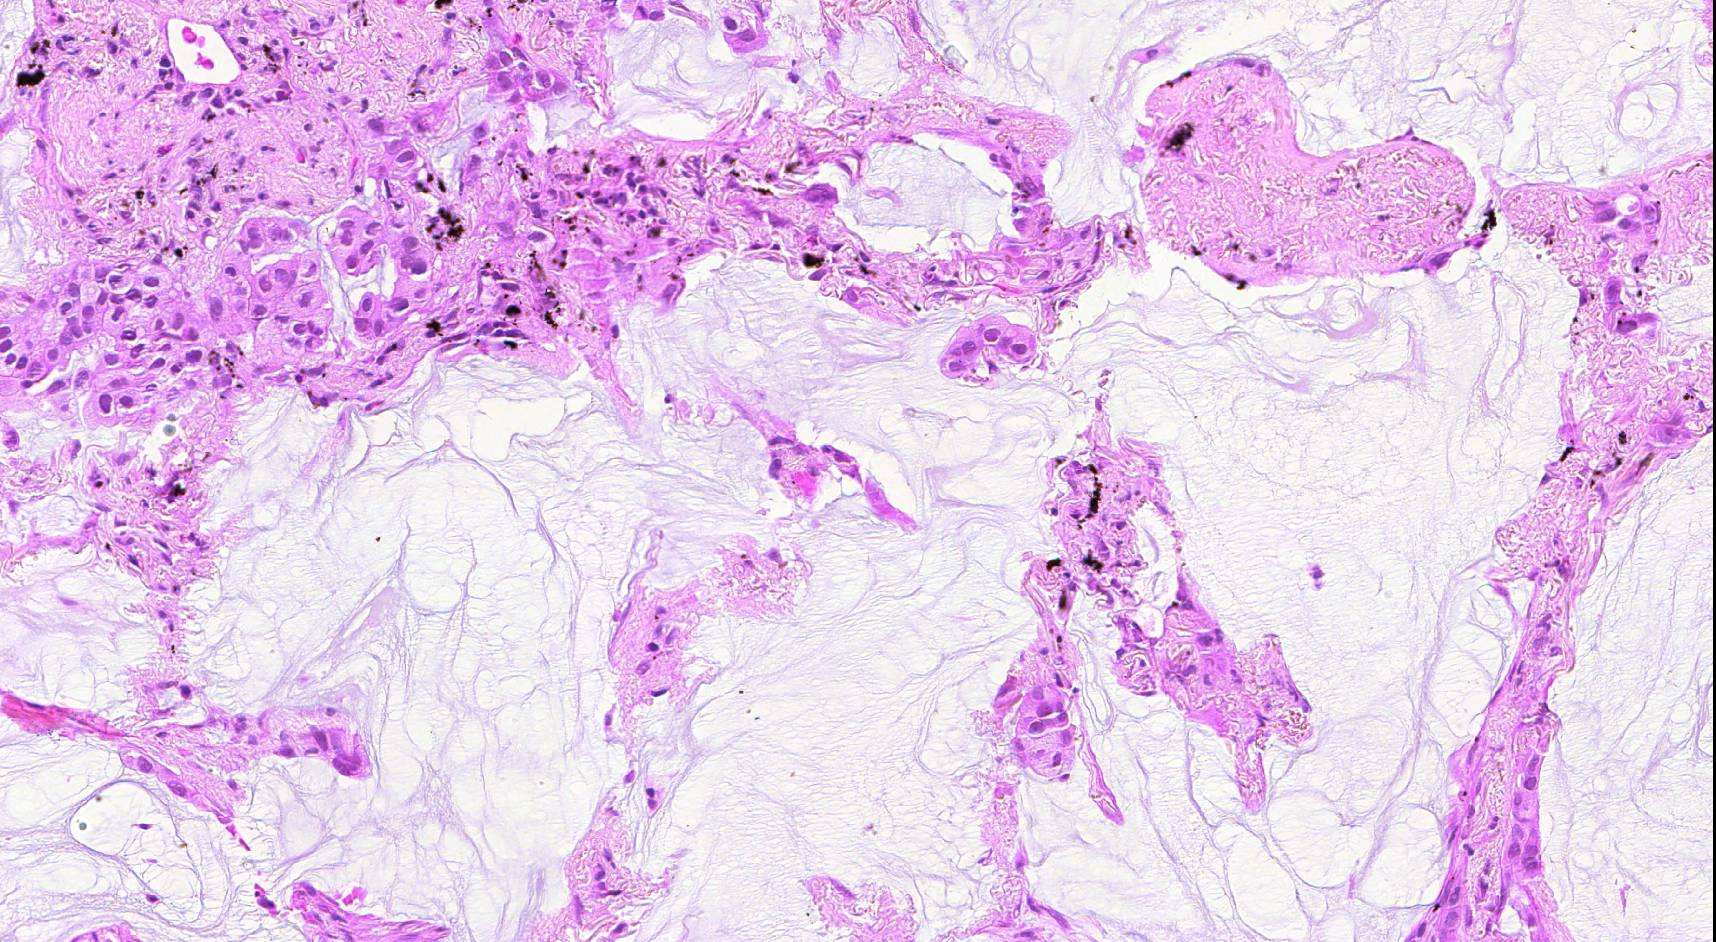stas: (941, 310, 1038, 387)
